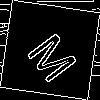M: (25, 25, 87, 86)
